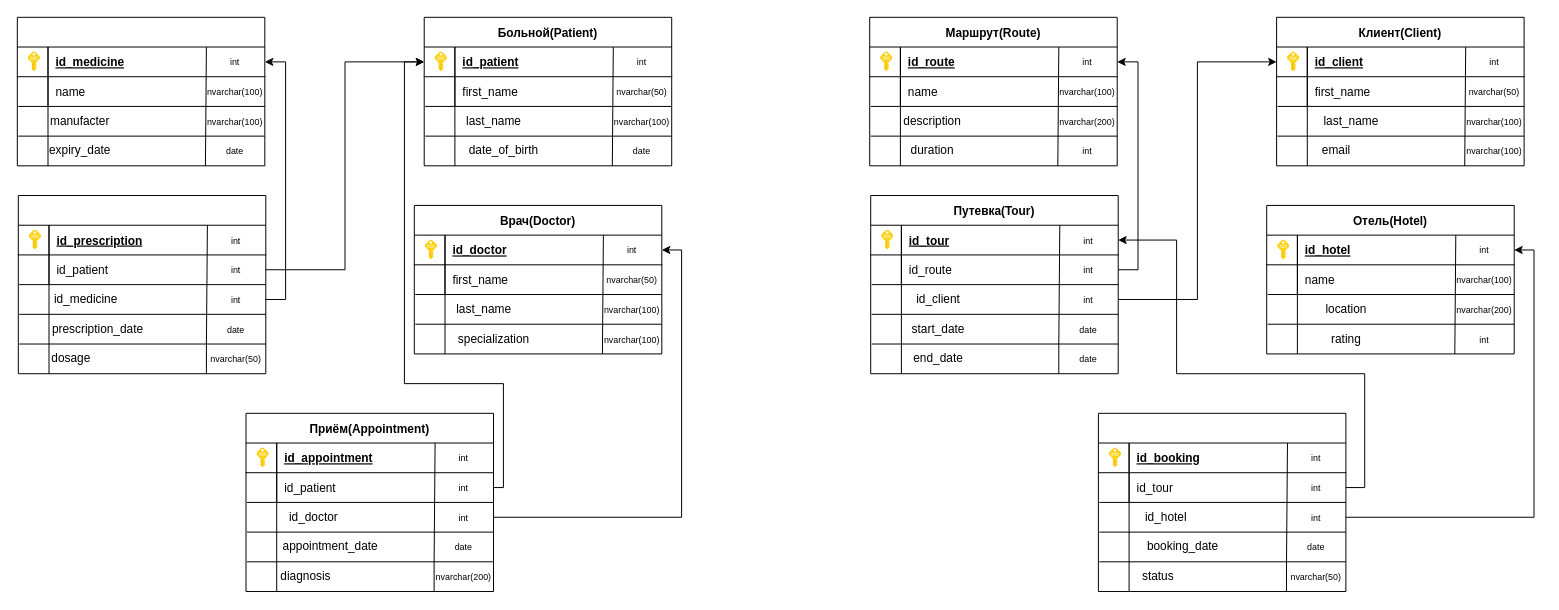
This 1559x610 diagram has some shape labels left out. The box of each missing label's shape, as (x1, y1, x2, y2) in pixels:
Бронирование(Booking): (1097, 412, 1346, 592)
Лекарство(Medicine): (16, 16, 265, 166)
Назначение(Prescription): (17, 195, 266, 374)
